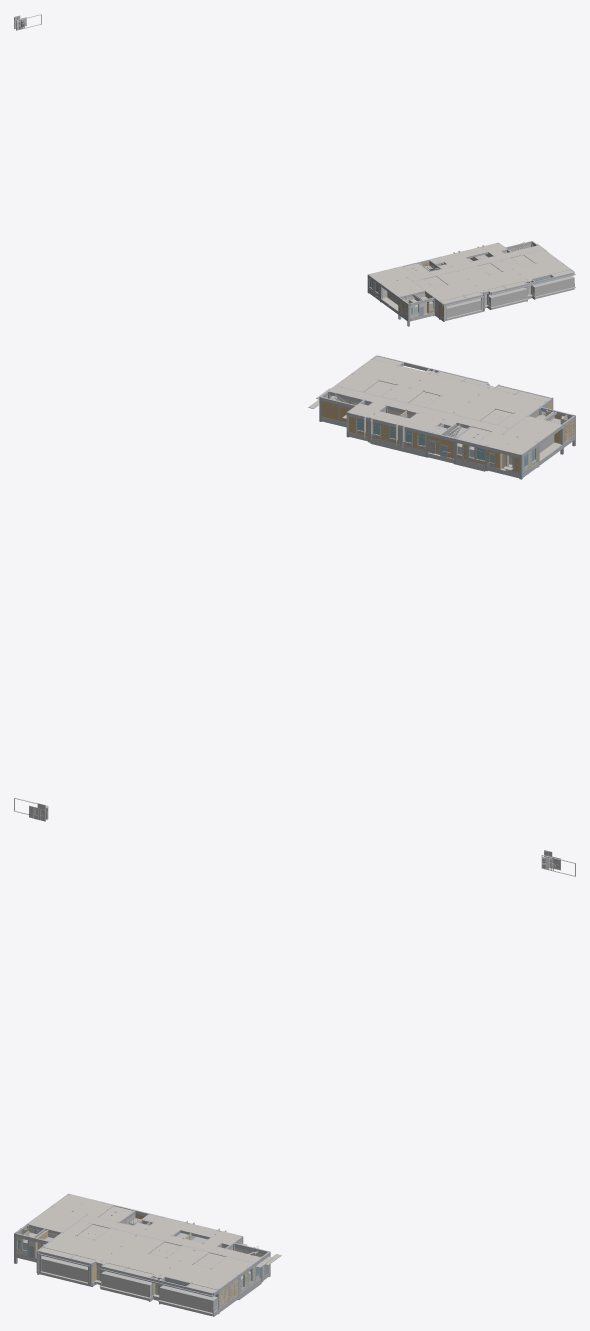
The picture shows the model from 3 angles, top to bottom: view 1: azimuth 30°, elevation 25°; view 2: azimuth 150°, elevation 25°; view 3: azimuth 330°, elevation 25°; orthographic projection. The views are drawn at different scales.
Visible parts, largest first — view 1: C_B, C_L, C_QT, C_Q, C_Z; view 2: C_B, C_L, C_QC__T250, C_Z, C_Q, C_QT, C_W; view 3: C_B, C_L, C_QT, C_Q, C_Z.
Part boxes in pixels (left/top/right/bottom): C_B: left=369, top=243, right=575, bottom=319; C_L: left=368, top=241, right=575, bottom=321; C_QT: left=14, top=14, right=574, bottom=317; C_Q: left=368, top=244, right=533, bottom=318; C_Z: left=367, top=241, right=571, bottom=326; C_B: left=308, top=356, right=561, bottom=470; C_L: left=321, top=355, right=574, bottom=477; C_QC__T250: left=320, top=397, right=574, bottom=472; C_Z: left=319, top=359, right=575, bottom=479; C_Q: left=321, top=395, right=574, bottom=472; C_QT: left=14, top=394, right=560, bottom=821; C_W: left=357, top=411, right=562, bottom=467; C_B: left=28, top=1194, right=281, bottom=1314; C_L: left=16, top=1194, right=269, bottom=1316; C_QT: left=17, top=850, right=575, bottom=1312; C_Q: left=16, top=1205, right=269, bottom=1308; C_Z: left=14, top=1193, right=270, bottom=1314.
Bounding box in the file's own units: 45.57 × 6.85 × 195.
